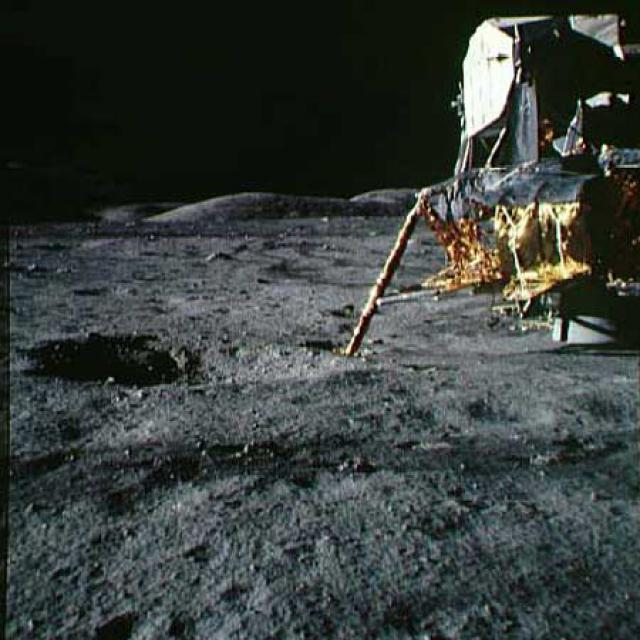artifact: (342, 8, 638, 367)
crater: (27, 324, 337, 386), (68, 283, 133, 296)
rock: (204, 245, 233, 266)
